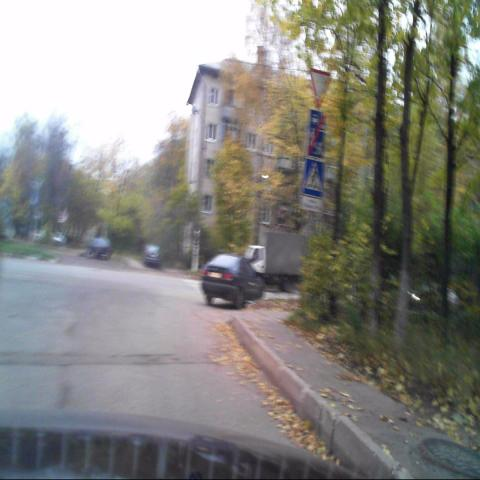5_22: (307, 110, 325, 159)
